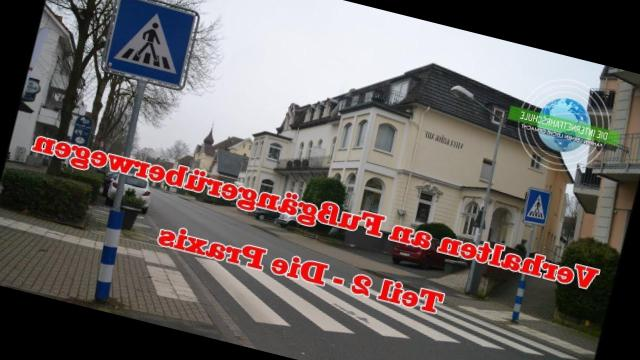crosswalk-sign: (99, 1, 204, 92), (523, 187, 556, 229)
